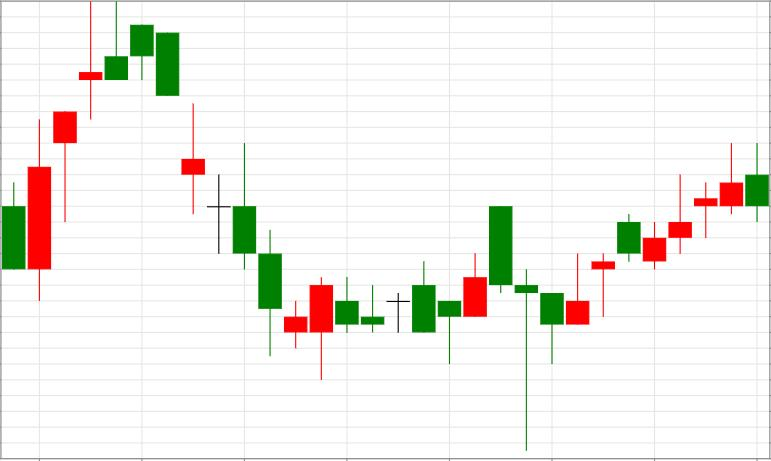shooting_star_fall: (643, 142, 743, 271)
